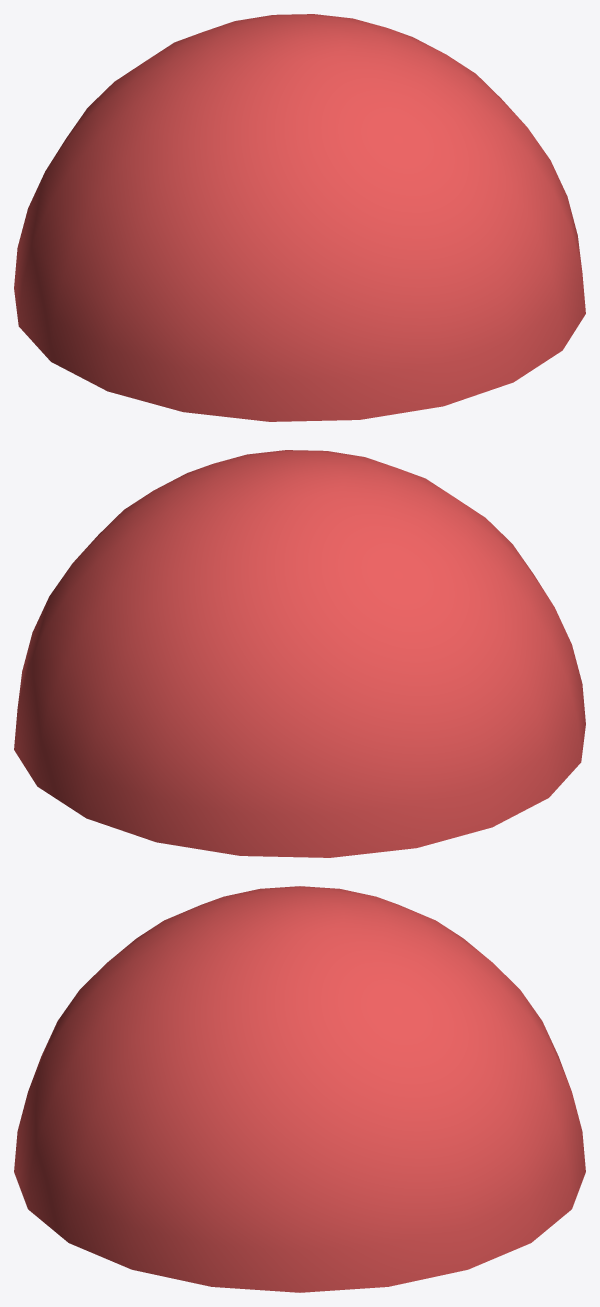
The model's file is SM_Security_MetalDecLight_01.fbx.
3 renders of one model, top to bottom at view 1: azimuth 30°, elevation 25°; view 2: azimuth 150°, elevation 25°; view 3: azimuth 270°, elevation 25°, orthographic.
Visible parts, largest first — view 1: pSphere1; view 2: pSphere1; view 3: pSphere1.
Boxes of the visible parts, x1,y1,x2,y2 form: pSphere1: (14,14,585,421); pSphere1: (14,450,585,857); pSphere1: (14,886,585,1292).
Size of the model in its own units: 0.8707 by 0.4354 by 0.8707.
